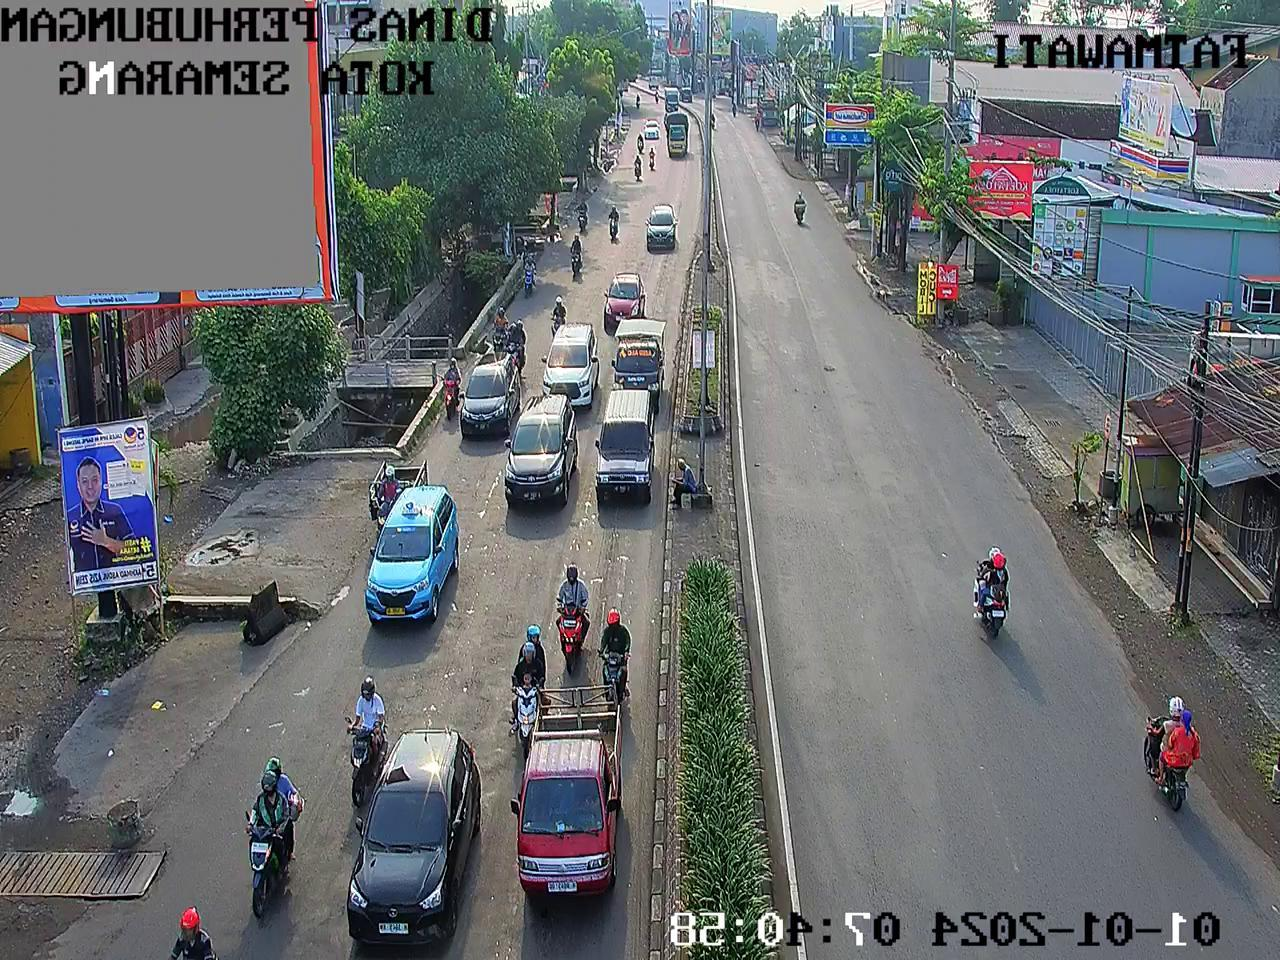car: (343, 722, 489, 954), (507, 678, 623, 906), (358, 482, 464, 634), (502, 389, 582, 509), (590, 385, 661, 508), (606, 313, 668, 412), (457, 349, 524, 441), (539, 319, 600, 408), (600, 268, 647, 334), (644, 197, 678, 256), (662, 84, 680, 113), (644, 115, 659, 141)
motorcycle: (236, 749, 308, 928), (341, 672, 392, 816), (506, 619, 550, 761), (150, 896, 229, 960), (363, 455, 434, 522), (595, 604, 638, 701), (556, 554, 590, 676), (439, 354, 465, 422), (505, 319, 534, 370), (487, 304, 512, 350), (519, 253, 542, 296), (546, 293, 569, 335), (566, 230, 586, 277), (605, 203, 622, 246), (573, 196, 591, 235), (631, 129, 647, 155), (632, 152, 646, 181), (647, 146, 660, 172), (632, 91, 643, 112), (652, 88, 661, 106), (661, 108, 669, 126)
truck: (666, 110, 691, 160)
